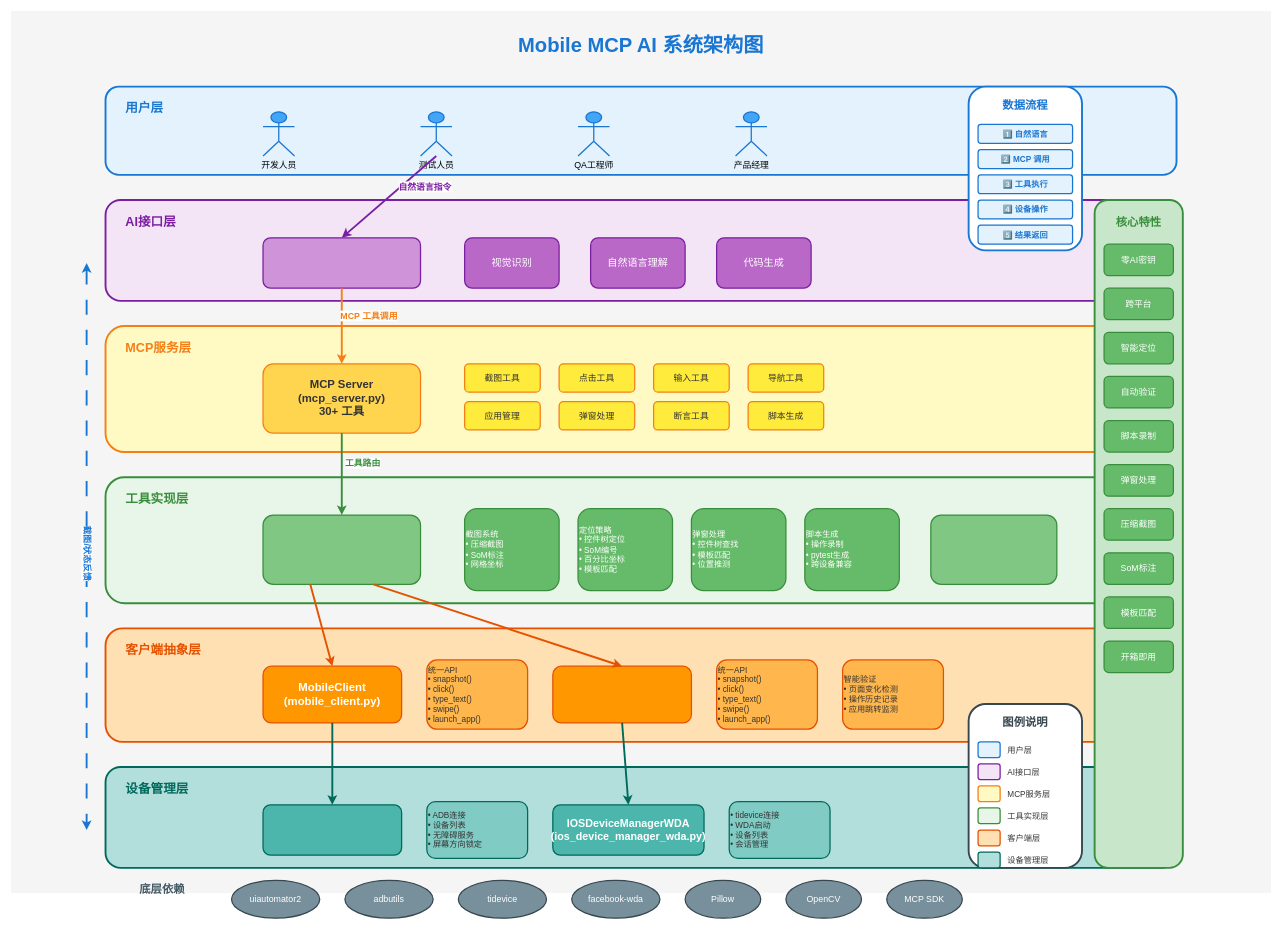
This 1281x929 diagram has some shape labels left out. Each missing label, with the centre of its shape:
BasicMobileToolsLite (basic_tools_lite.py): (341,549)
Cursor AI: (341,263)
DeviceManager (device_manager.py): (332,830)
IOSClientWDA (ios_client_wda.py): (622,694)
TemplateMatcher (template_matcher.py) OpenCV 模板匹配: (993,549)
